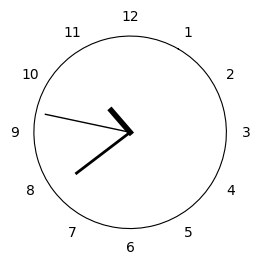12: (122, 8, 139, 23)
circle: (34, 36, 227, 230)
hours: (107, 106, 134, 136)
minutes: (75, 134, 129, 174)
seconds: (43, 114, 128, 132)
